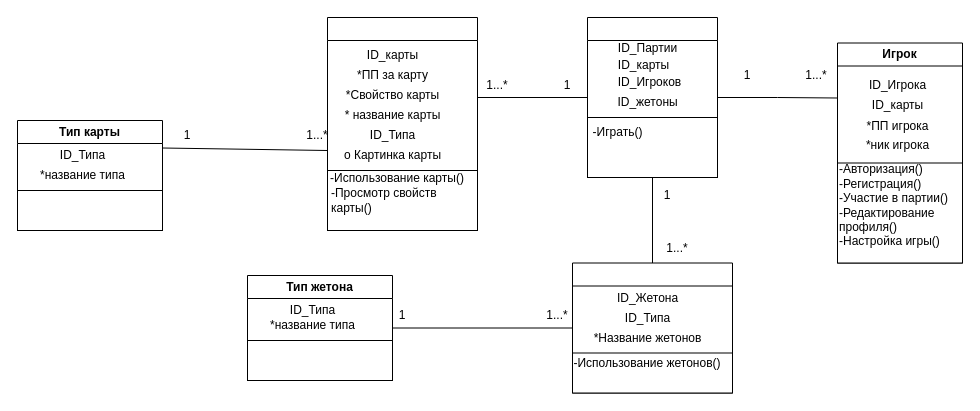
Image size: 980x411. Some labels were removed from this diagram. Here are the shapes that lost their labels. From the top down, the box of each, then its label:
(586, 16, 718, 178): Партия
(326, 16, 478, 230): Карта
(572, 262, 732, 393): Жетоны
